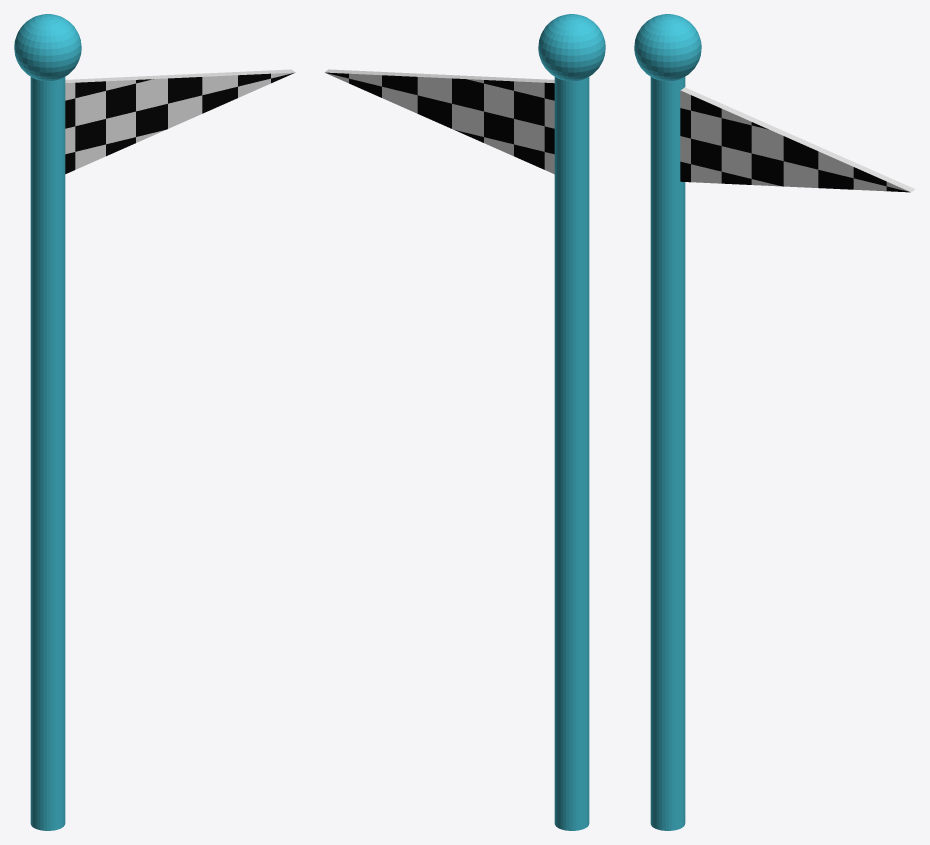
File: bayrak.fbx
3 views of the same model, side by side, from view 1: azimuth 30°, elevation 25°; view 2: azimuth 150°, elevation 25°; view 3: azimuth 330°, elevation 25° (orthographic).
Visible parts, largest first — view 1: Cylinder, Cube, Sphere; view 2: Cylinder, Cube, Sphere; view 3: Cylinder, Cube, Sphere.
Boxes of the visible parts, box(x1,y1,x2,y2) form: Cylinder: box(30, 77, 65, 830); Cube: box(65, 69, 295, 173); Sphere: box(14, 14, 81, 81); Cylinder: box(554, 77, 589, 830); Cube: box(324, 69, 554, 174); Sphere: box(538, 14, 605, 81); Cylinder: box(650, 77, 685, 830); Cube: box(680, 87, 915, 192); Sphere: box(634, 14, 701, 81).
Size of the model in its own units: 299 by 839 by 63.7.
